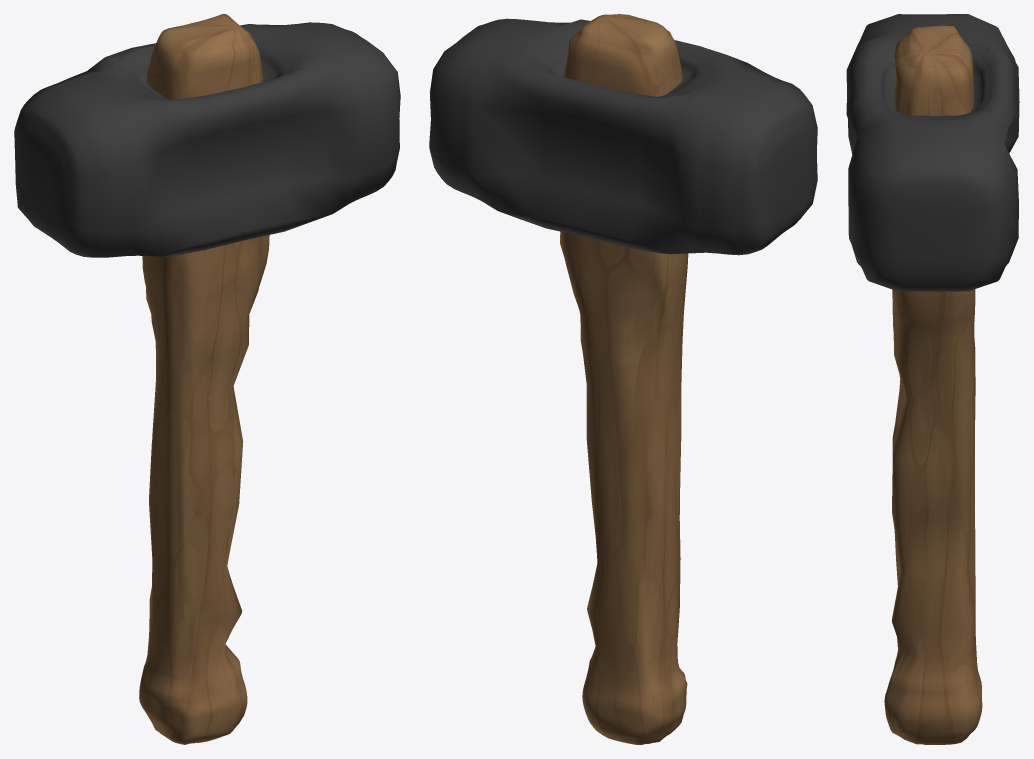
File: sf_hammer.fbx
3 renders of one model, left to right at view 1: azimuth 30°, elevation 25°; view 2: azimuth 150°, elevation 25°; view 3: azimuth 270°, elevation 25°, orthographic.
Visible parts, largest first — view 1: Cube; view 2: Cube; view 3: Cube.
Boxes of the visible parts, x1,y1,x2,y2 form: Cube: [14, 14, 400, 744]; Cube: [429, 14, 817, 744]; Cube: [846, 14, 1019, 744].
Bounding box in the file's own units: 60.06 × 119 × 26.69.
